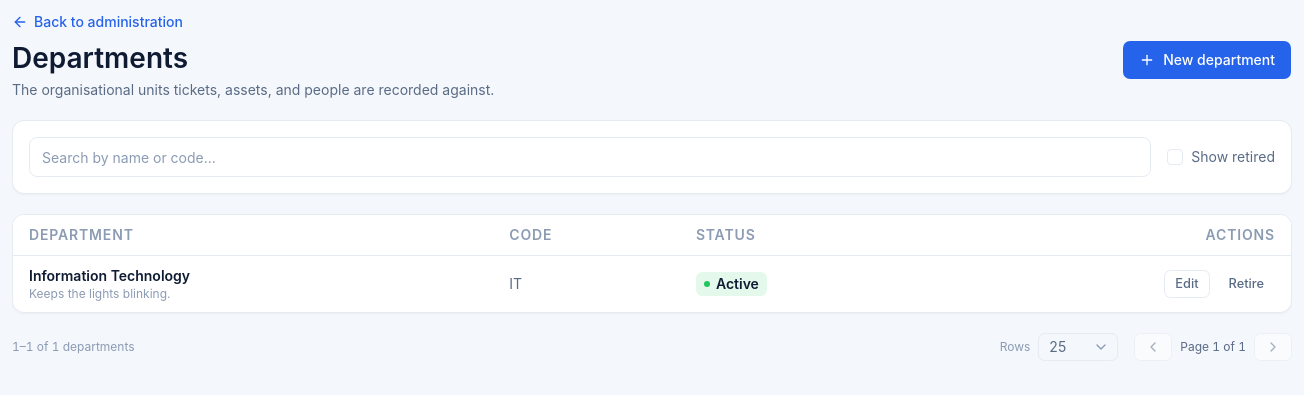
Test case: DepartmentsPage › hides retired departments until they are asked for
Check: the text "Information Technology" is shown, box top-left (29, 266), bottom-right (190, 284)
Click the checkbox named "show retired": (1175, 157) top-left (1167, 149), bottom-right (1183, 165)
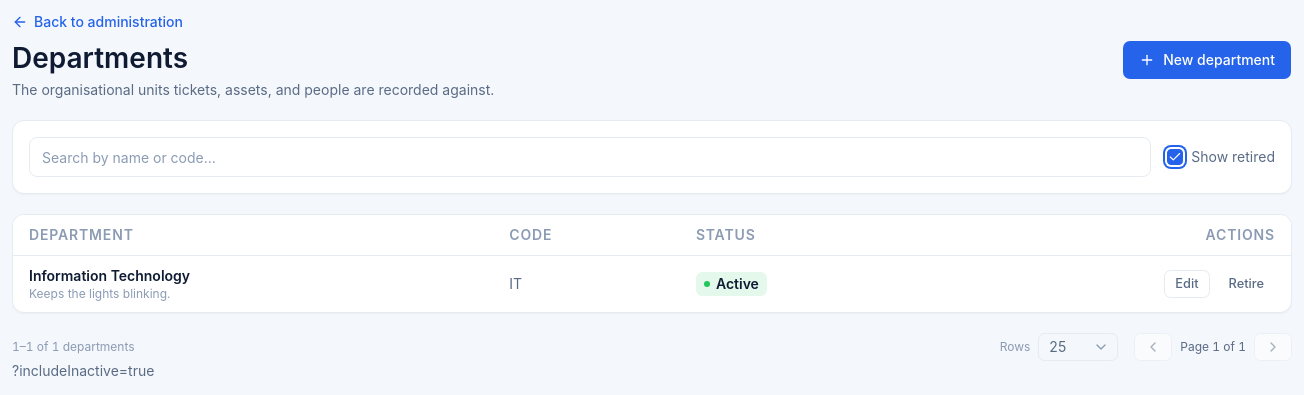
Check: the text with test id "address" shows "includeInactive=true", box top-left (12, 362), bottom-right (154, 378)
